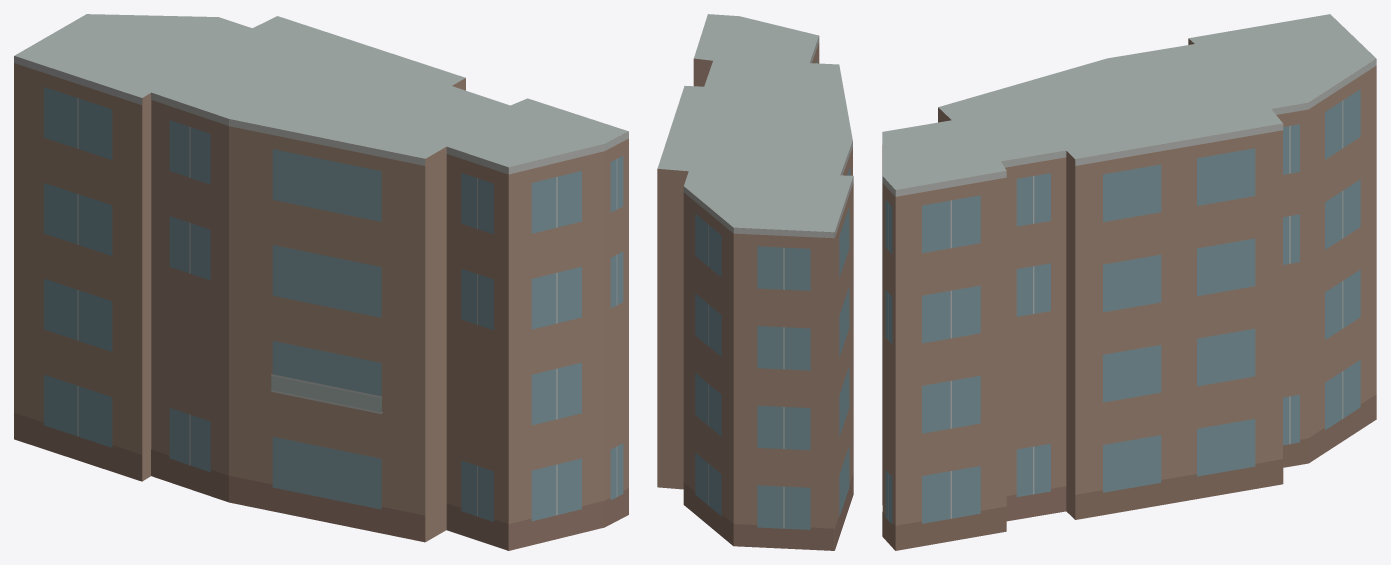
Rendered from survey-upis-32458444.glb.
The picture shows the model from 3 angles, left to right: view 1: azimuth 30°, elevation 25°; view 2: azimuth 150°, elevation 25°; view 3: azimuth 270°, elevation 25°; orthographic projection. The views are drawn at different scales.
Parts seen in each view (by area): view 1: survey-upis-32458444.tmp; view 2: survey-upis-32458444.tmp; view 3: survey-upis-32458444.tmp.
Boxes of the visible parts, x1,y1,x2,y2 form: survey-upis-32458444.tmp: (14,14,628,550); survey-upis-32458444.tmp: (657,14,853,550); survey-upis-32458444.tmp: (882,14,1376,550).
Size of the model in its own units: 13.62 by 13 by 16.15.
